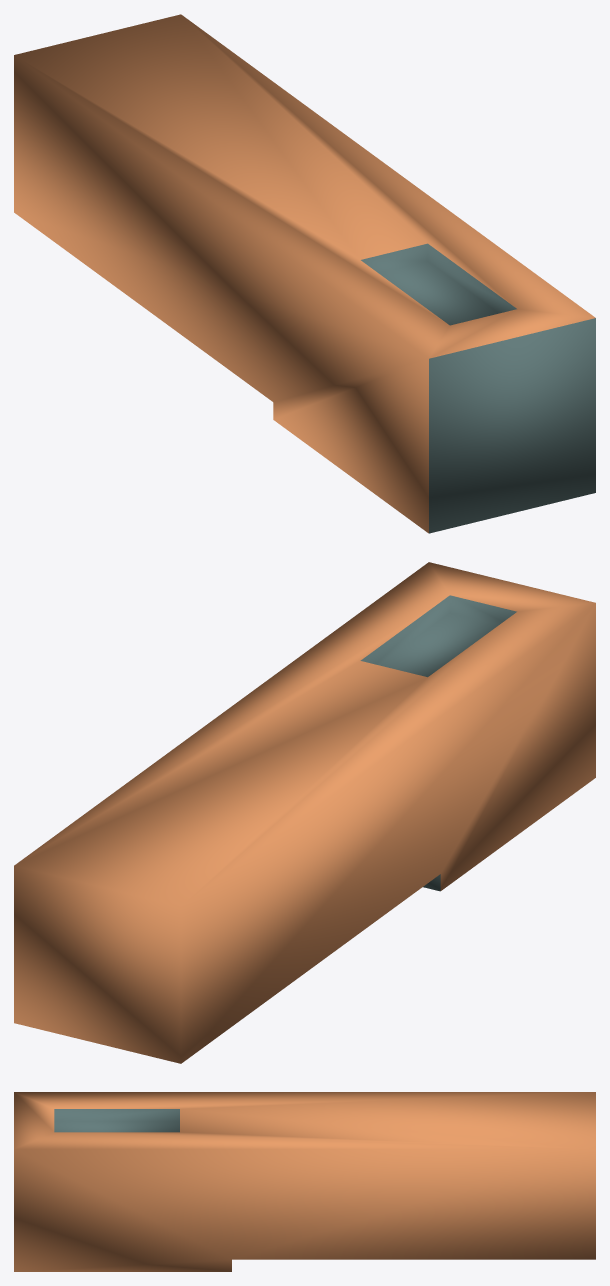
File: speaker.obj
3 renders of one model, top to bottom at view 1: azimuth 30°, elevation 25°; view 2: azimuth 150°, elevation 25°; view 3: azimuth 270°, elevation 25°, orthographic. The views are drawn at different scales.
Visible parts, largest first — view 1: speaker.001; view 2: speaker.001; view 3: speaker.001.
Boxes of the visible parts, bbox=[...] form: speaker.001: bbox=[14, 14, 595, 533]; speaker.001: bbox=[14, 562, 595, 1063]; speaker.001: bbox=[14, 1092, 595, 1271].
Bounding box in the file's own units: 0.148 × 0.148 × 0.6364.
